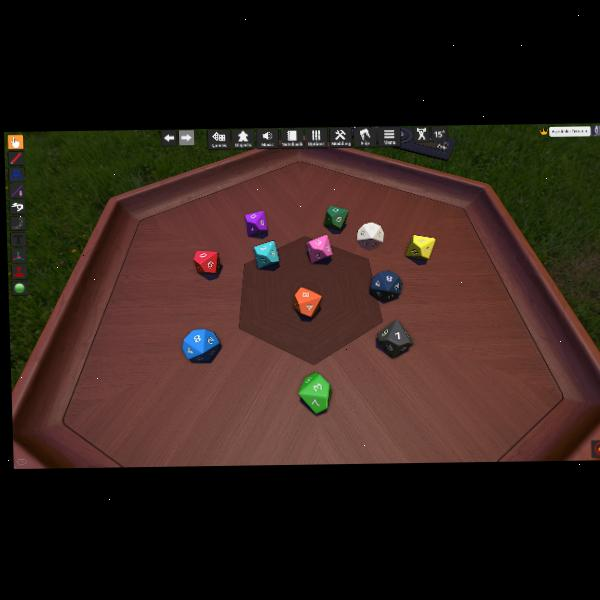d10: (376, 319, 412, 358), (181, 328, 221, 362), (297, 373, 330, 414), (369, 270, 401, 301), (294, 286, 321, 317), (357, 221, 384, 250), (252, 240, 279, 268), (406, 234, 435, 260), (306, 235, 331, 262), (194, 250, 221, 274), (243, 209, 267, 235), (323, 204, 348, 228)
